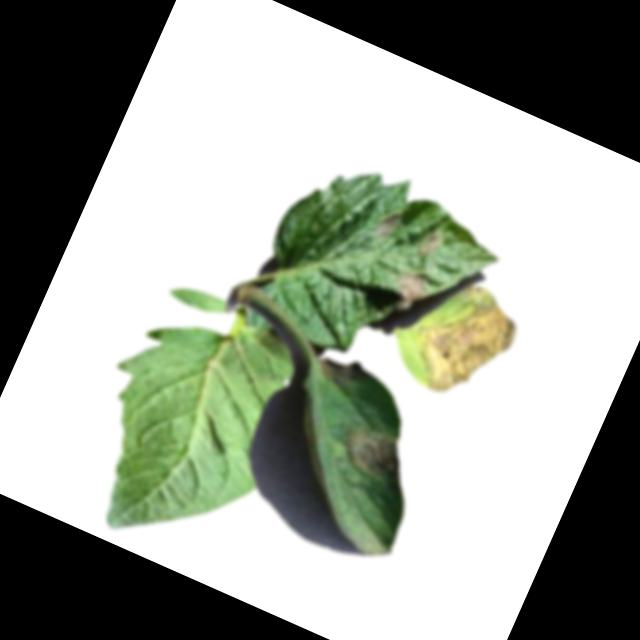Late_blight: (396, 269, 529, 413), (330, 419, 408, 488), (311, 347, 371, 396), (386, 265, 432, 317), (370, 208, 402, 246), (414, 226, 446, 261)
healthy: (56, 270, 321, 575)
